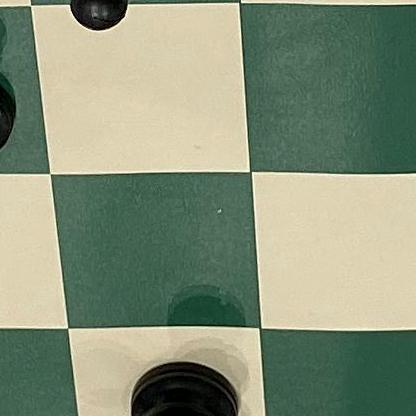black-pawn: (35, 0, 171, 52), (0, 53, 35, 245)
black-rook: (108, 345, 255, 416)
